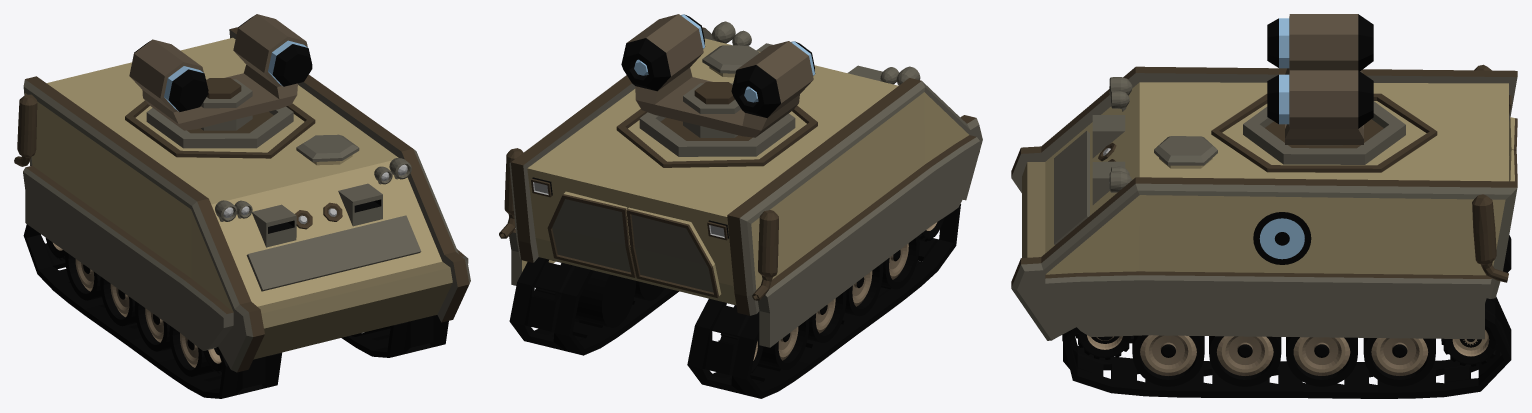
The model's file is apc2.fbx.
3 renders of one model, left to right at view 1: azimuth 30°, elevation 25°; view 2: azimuth 150°, elevation 25°; view 3: azimuth 270°, elevation 25°, orthographic. The views are drawn at different scales.
Parts seen in each view (by area): view 1: APC, ORIGINESPININGBARRELS, SENILE, ROTI, VIZOR, EXHAUST1; view 2: APC, SENILE, ORIGINESPININGBARRELS, ROTI, EXHAUST1, VIZOR, EXHAUST2; view 3: APC, ROTI, ORIGINESPININGBARRELS, SENILE, STEMA, EXHAUST2, VIZOR.
Part boxes in pixels (x1,y1,x2,y2): APC: [23, 27, 470, 372]; ORIGINESPININGBARRELS: [129, 14, 312, 130]; SENILE: [23, 224, 448, 398]; ROTI: [45, 238, 390, 376]; VIZOR: [296, 134, 359, 165]; EXHAUST1: [14, 94, 37, 166]; APC: [509, 21, 982, 347]; SENILE: [509, 204, 960, 398]; ORIGINESPININGBARRELS: [621, 14, 815, 137]; ROTI: [534, 217, 944, 372]; EXHAUST1: [752, 210, 778, 300]; VIZOR: [702, 45, 759, 77]; EXHAUST2: [499, 148, 523, 238]; APC: [1011, 66, 1517, 340]; ROTI: [1075, 315, 1498, 386]; ORIGINESPININGBARRELS: [1267, 14, 1373, 144]; SENILE: [1062, 235, 1511, 398]; STEMA: [1253, 212, 1311, 264]; EXHAUST2: [1472, 194, 1508, 282]; VIZOR: [1154, 136, 1217, 168].
Size of the model in its own units: 9.55 by 9.53 by 14.78.
